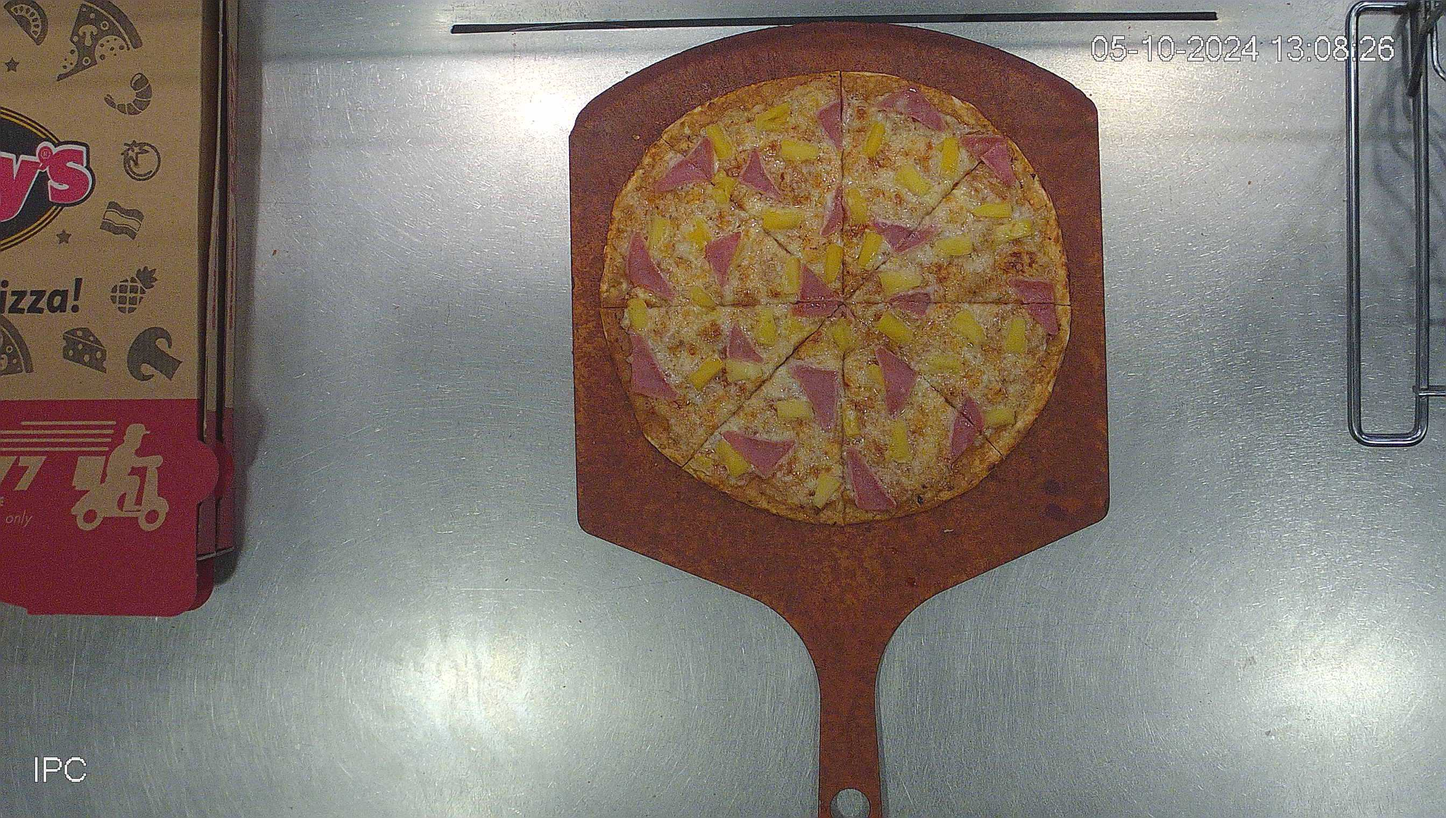manager_choice: (599, 70, 1071, 526)
